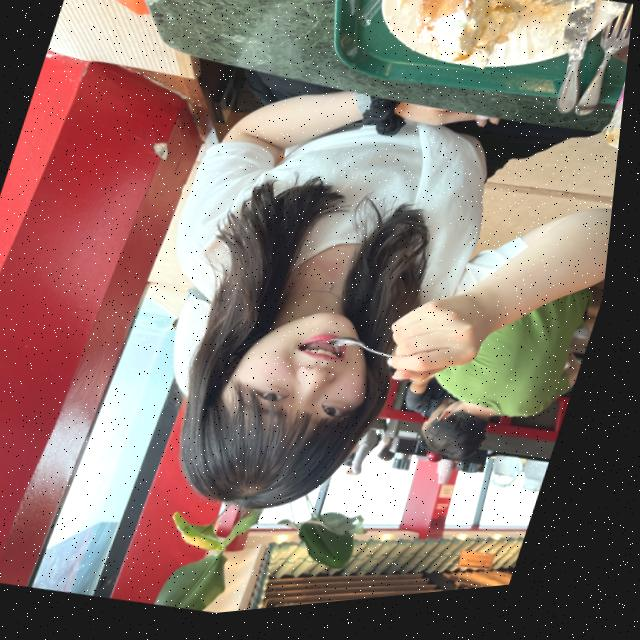eating-person: (76, 45, 632, 612)
